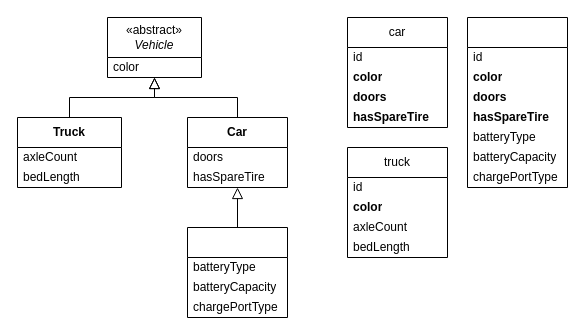
Some shapes in this 585 by 335 pixel diagram are drawn without their labels. Each missing label, with the box of its shape:
electric_car: (466, 16, 568, 188)
ElectricCar: (186, 226, 288, 318)
